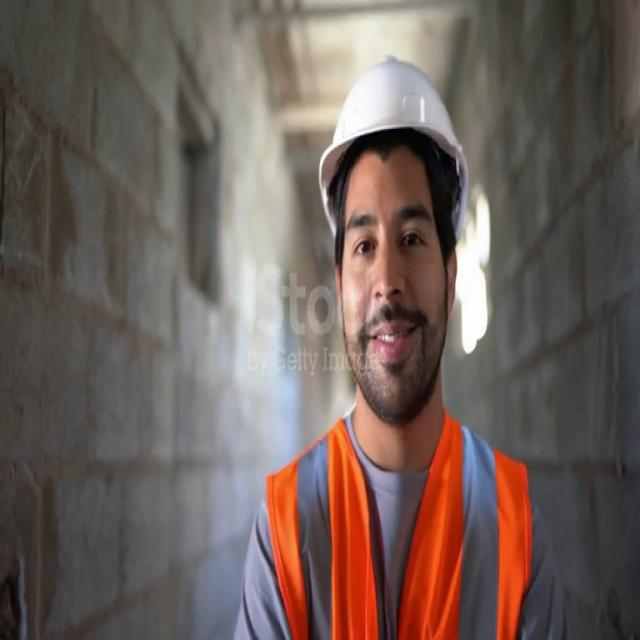capacete: (314, 43, 478, 230)
